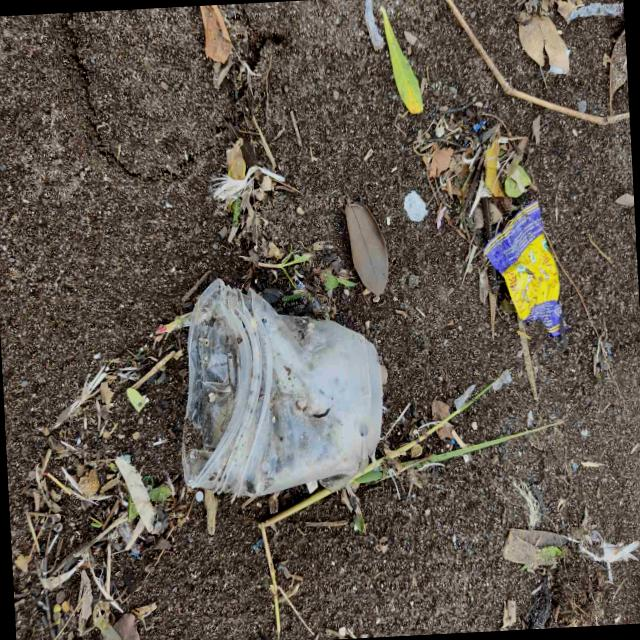giay_goi: (485, 200, 563, 337)
hop_nhua: (182, 279, 382, 497)
